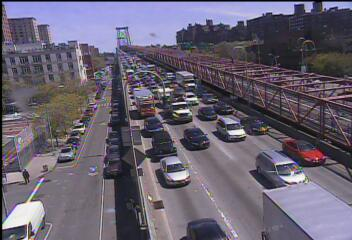pos: (16, 164, 32, 186)
